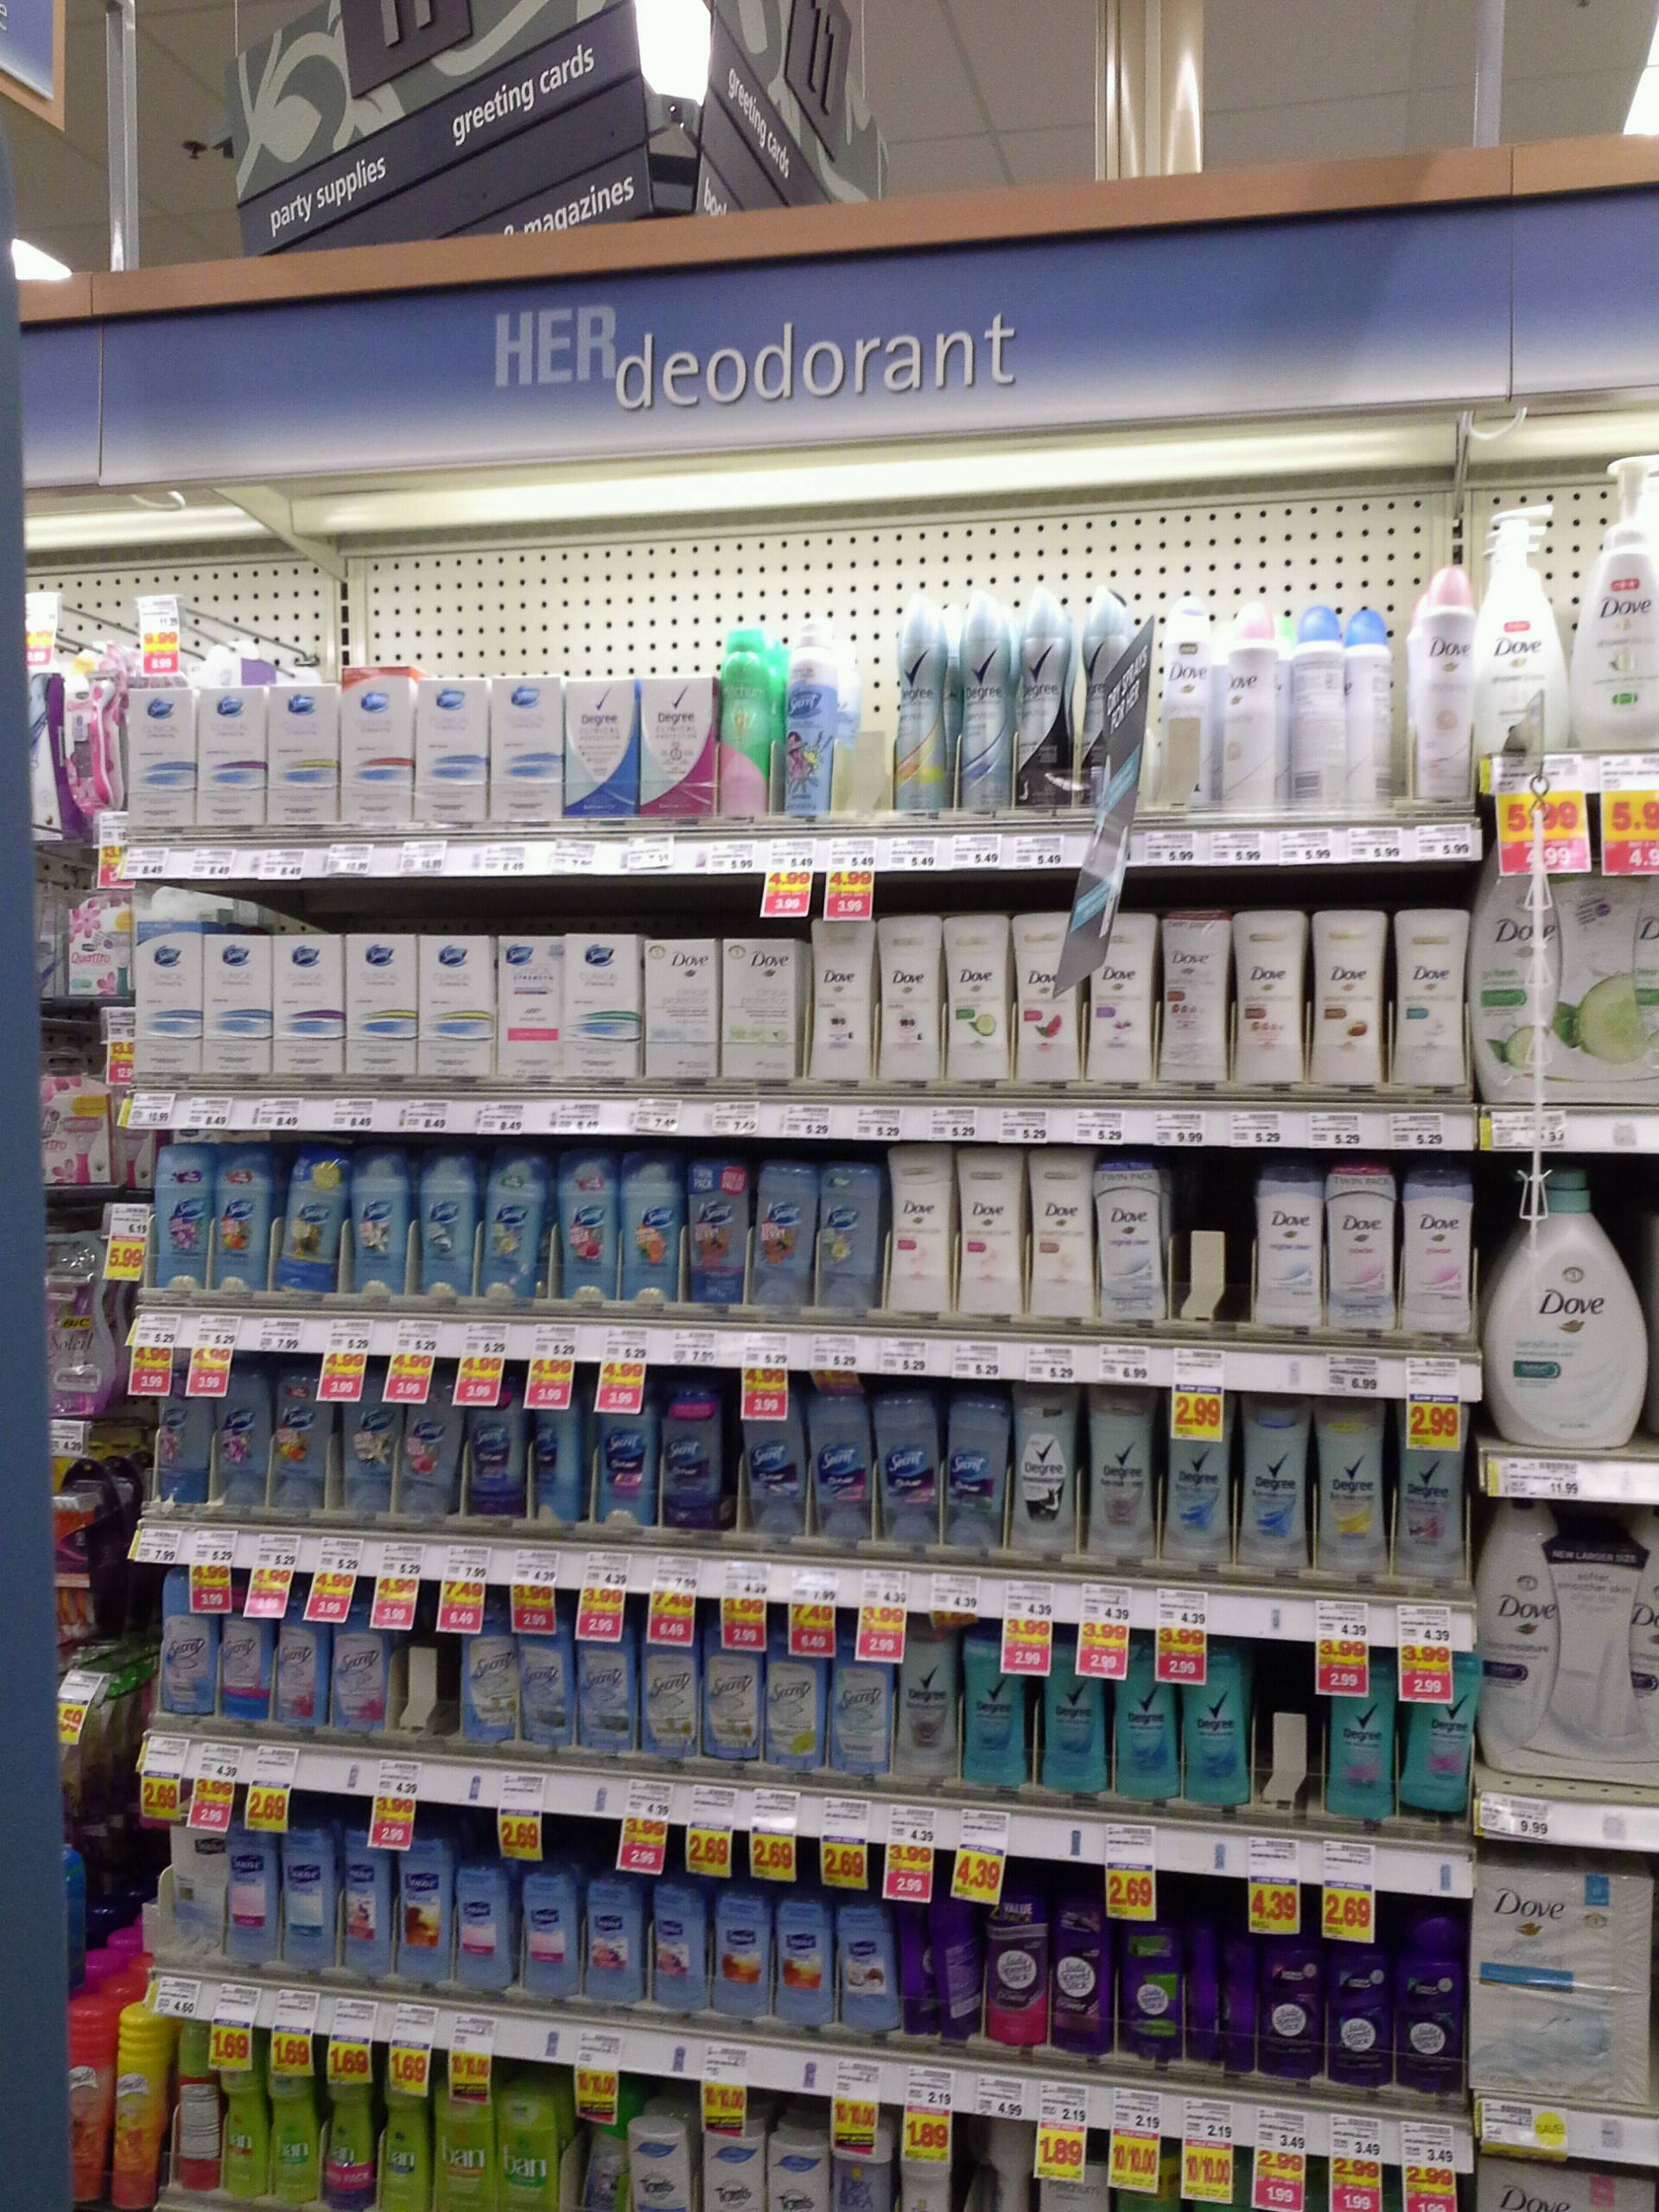Out-of-stock: (1176, 1144, 1246, 1327)
